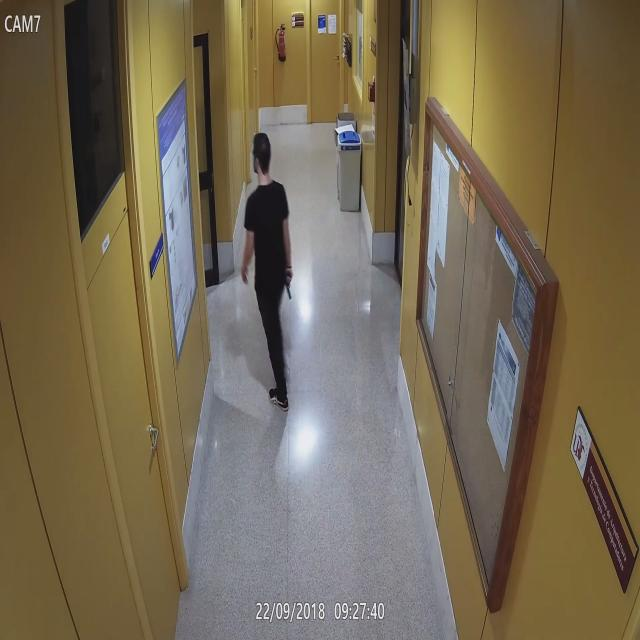pistol: (284, 269, 293, 299)
